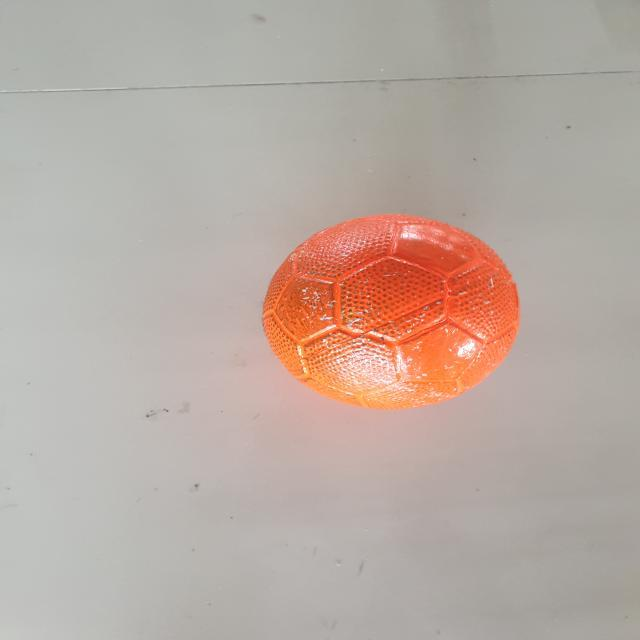bola: (251, 205, 534, 418)
